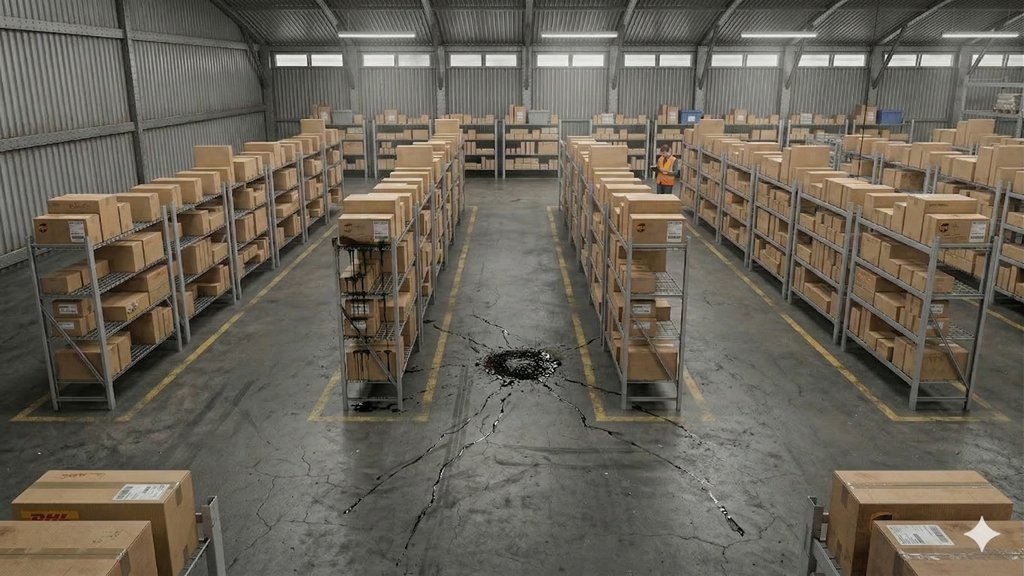empty_shelf: (75, 266, 121, 300), (81, 308, 117, 343)
person: (653, 144, 684, 193)
safety_vest: (659, 156, 679, 187)
spill: (455, 309, 586, 440), (333, 235, 403, 371)
